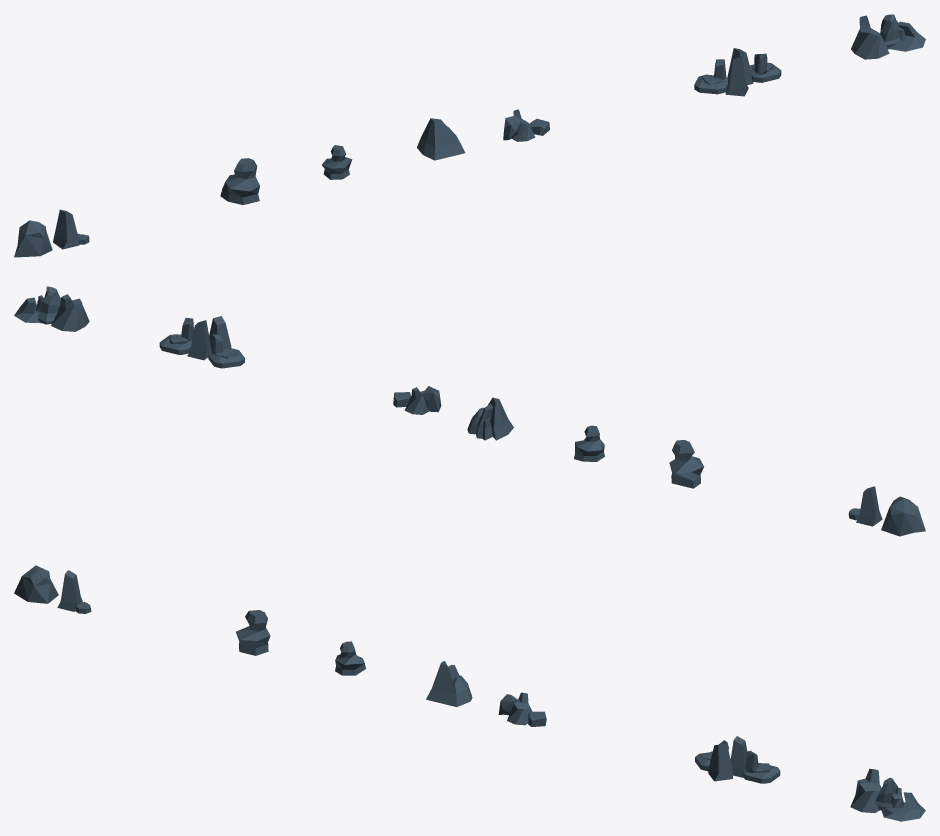
The model's file is rock1.glb.
3 renders of one model, top to bottom at view 1: azimuth 30°, elevation 25°; view 2: azimuth 150°, elevation 25°; view 3: azimuth 330°, elevation 25°, orthographic.
Parts seen in each view (by area): view 1: Rock 17, Rock 18, Rock 13, Rock 15, Rock 11, Rock 16, Rock 12, Rock 14; view 2: Rock 17, Rock 18, Rock 15, Rock 11, Rock 13, Rock 16, Rock 14, Rock 12; view 3: Rock 17, Rock 18, Rock 15, Rock 13, Rock 11, Rock 16, Rock 12, Rock 14.
Part boxes in pixels (<box>): Rock 17: <box>694,48,781,96</box>; Rock 18: <box>851,14,925,59</box>; Rock 13: <box>220,158,259,204</box>; Rock 15: <box>417,118,465,160</box>; Rock 11: <box>14,220,52,257</box>; Rock 16: <box>503,109,549,141</box>; Rock 12: <box>53,209,89,249</box>; Rock 14: <box>322,145,352,179</box>; Rock 17: <box>159,316,244,368</box>; Rock 18: <box>14,286,89,331</box>; Rock 15: <box>467,397,513,440</box>; Rock 11: <box>881,496,925,536</box>; Rock 13: <box>669,440,704,488</box>; Rock 16: <box>393,386,441,414</box>; Rock 14: <box>574,425,604,461</box>; Rock 12: <box>848,486,882,526</box>; Rock 17: <box>695,736,780,783</box>; Rock 18: <box>850,768,925,821</box>; Rock 15: <box>426,661,472,706</box>; Rock 13: <box>236,610,270,655</box>; Rock 11: <box>14,565,58,603</box>; Rock 16: <box>498,692,546,726</box>; Rock 12: <box>57,570,91,613</box>; Rock 14: <box>335,641,366,675</box>.
Size of the model in its own units: 40.82 by 1.62 by 2.54.
